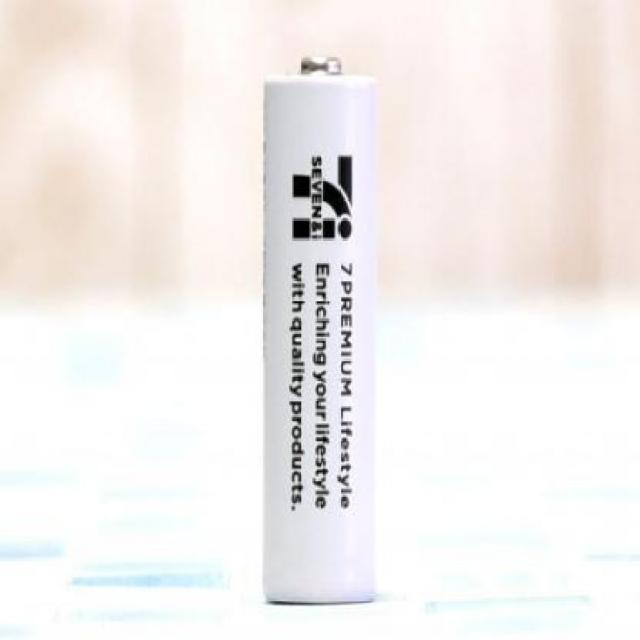AA: (256, 54, 386, 606)
